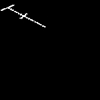double_crochet: (1, 5, 44, 26)
